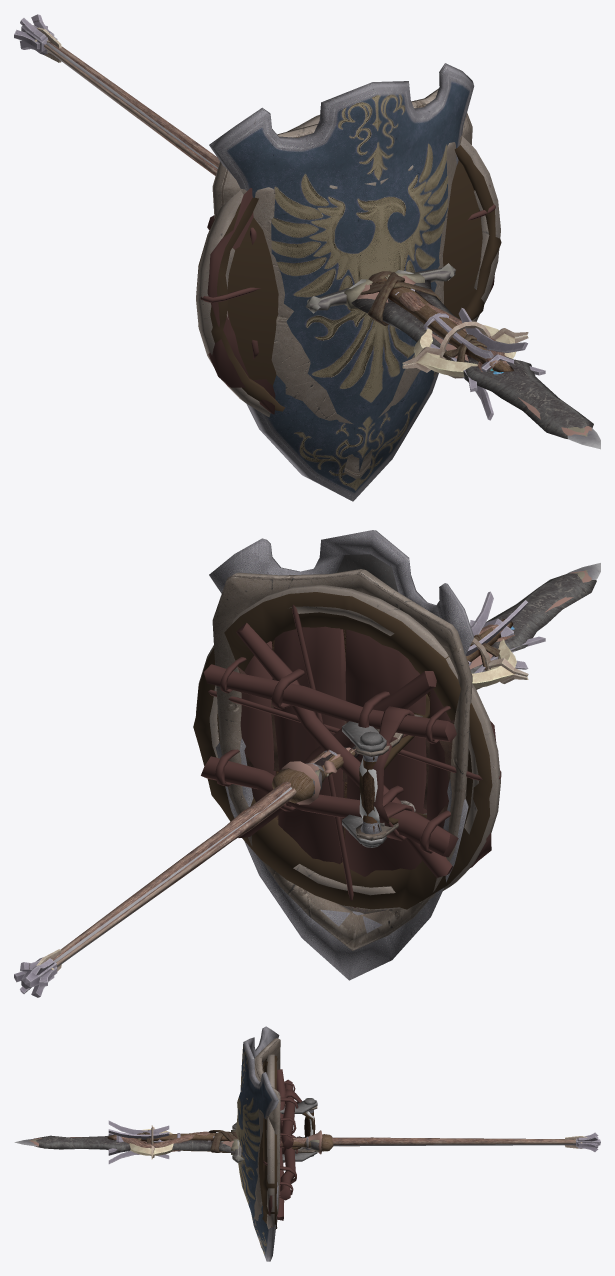
File: P09_Weapon_250322.fbx
The picture shows the model from 3 angles, top to bottom: view 1: azimuth 30°, elevation 25°; view 2: azimuth 150°, elevation 25°; view 3: azimuth 270°, elevation 25°; orthographic projection. The views are drawn at different scales.
Parts seen in each view (by area): view 1: Weapon_Shield_005, Weapon_Shield_002, Weapon_Sword_001, Weapon_Shield_004, Weapon_Shield_003, Weapon_Staff_002, Weapon_Shield_001, Weapon_Staff_001, Weapon_Staff_003, Weapon_Sword_005, Weapon_Sword_004, Weapon_Sword_002; view 2: Weapon_Shield_001, Weapon_Shield_002, Weapon_Shield_004, Weapon_Shield_005, Weapon_Shield_003, Weapon_Sword_001, Weapon_Staff_001, Weapon_Staff_002, Weapon_Staff_003, Weapon_Sword_002; view 3: Weapon_Shield_005, Weapon_Sword_001, Weapon_Staff_001, Weapon_Shield_001, Weapon_Shield_004, Weapon_Staff_002, Weapon_Shield_002, Weapon_Shield_003, Weapon_Staff_003.
Part boxes in pixels (<box>): Weapon_Shield_005: <box>209,63,474,501</box>; Weapon_Shield_002: <box>196,128,501,411</box>; Weapon_Sword_001: <box>351,271,593,438</box>; Weapon_Shield_004: <box>212,88,472,478</box>; Weapon_Shield_003: <box>196,115,500,417</box>; Weapon_Staff_002: <box>14,14,545,420</box>; Weapon_Shield_001: <box>200,185,495,414</box>; Weapon_Staff_001: <box>44,42,510,374</box>; Weapon_Staff_003: <box>35,27,528,378</box>; Weapon_Sword_005: <box>305,263,600,449</box>; Weapon_Sword_004: <box>308,268,455,310</box>; Weapon_Sword_002: <box>357,275,591,435</box>; Weapon_Shield_001: <box>201,604,501,908</box>; Weapon_Shield_002: <box>193,592,492,909</box>; Weapon_Shield_004: <box>212,569,472,950</box>; Weapon_Shield_005: <box>209,530,473,980</box>; Weapon_Shield_003: <box>196,584,500,910</box>; Weapon_Sword_001: <box>272,573,596,803</box>; Weapon_Staff_001: <box>53,624,514,965</box>; Weapon_Staff_002: <box>14,591,545,997</box>; Weapon_Staff_003: <box>36,638,528,971</box>; Weapon_Sword_002: <box>281,570,591,804</box>; Weapon_Shield_005: <box>235,1026,317,1261</box>; Weapon_Sword_001: <box>33,1130,333,1153</box>; Weapon_Staff_001: <box>113,1131,575,1151</box>; Weapon_Shield_001: <box>262,1069,301,1227</box>; Weapon_Shield_004: <box>241,1038,317,1248</box>; Weapon_Staff_002: <box>108,1120,600,1163</box>; Weapon_Shield_002: <box>258,1056,314,1228</box>; Weapon_Shield_003: <box>266,1054,313,1229</box>; Weapon_Staff_003: <box>129,1125,587,1159</box>.
Bounding box in the file's own units: 0.4267 × 1.42 × 0.59.
